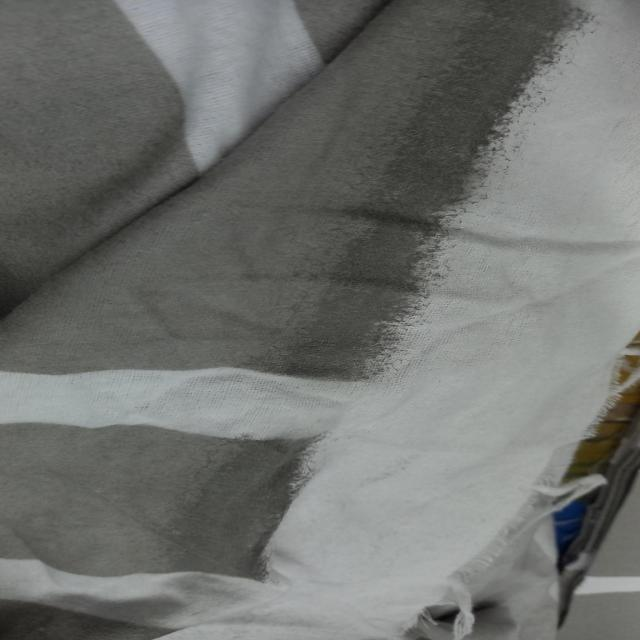baekra: (203, 280, 578, 591), (343, 2, 640, 275)
